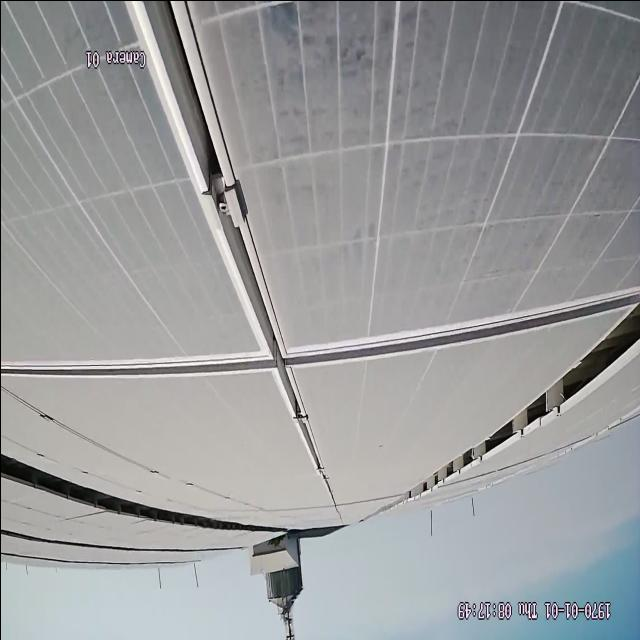interior panel: (141, 10, 328, 481), (290, 294, 604, 368), (2, 340, 269, 393)
outher panel: (400, 302, 633, 500), (0, 446, 274, 535)
